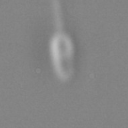normal: (49, 1, 69, 34)
